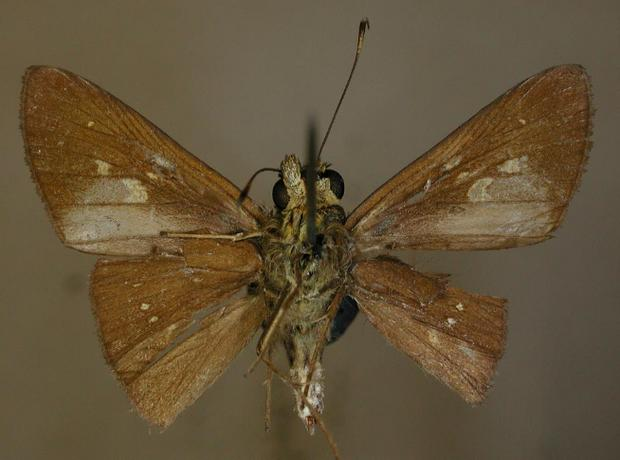Hesperiidae: (17, 18, 600, 447)
